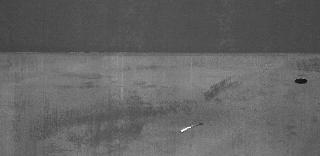punching hole: (293, 77, 311, 85)
welding line: (1, 48, 319, 58)
